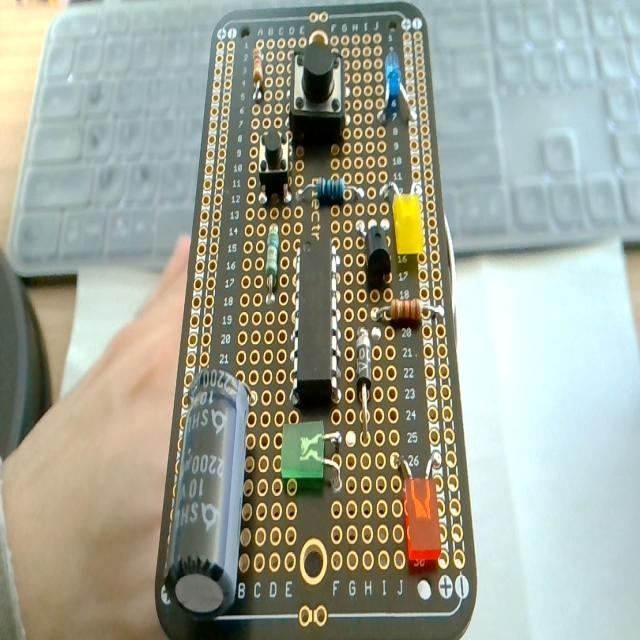Electrolytic capacitor: (164, 366, 252, 620)
IC: (289, 232, 341, 408)
diode: (355, 326, 372, 447)
led: (398, 451, 443, 565), (279, 418, 342, 492), (378, 44, 414, 124), (393, 192, 423, 258)
resistor: (372, 299, 442, 324), (264, 224, 280, 308), (317, 177, 345, 204), (252, 44, 264, 96)
switch: (291, 36, 345, 142), (258, 127, 289, 200)
transistor: (365, 221, 391, 291)
